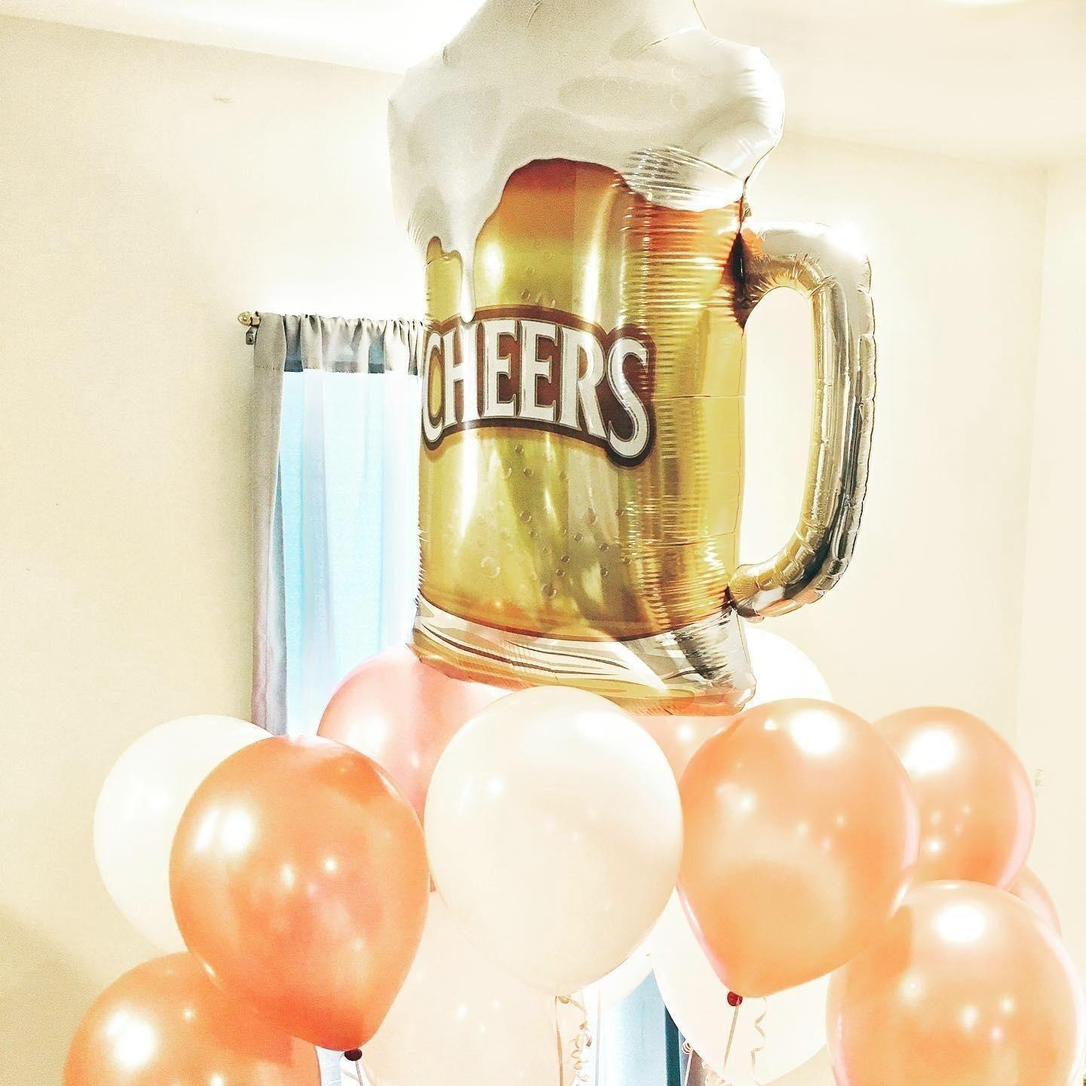glass-mug: (388, 66, 888, 701)
